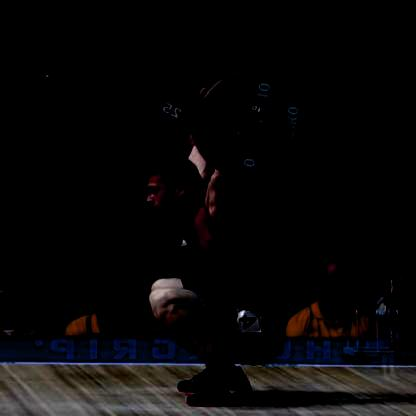Barbell: (254, 118, 273, 135)
